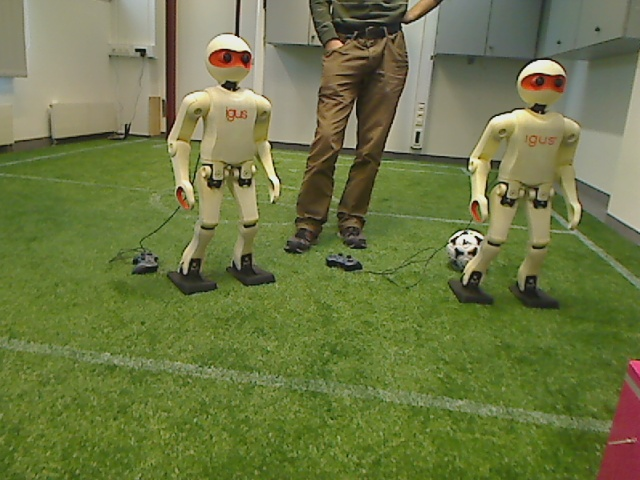ball: (444, 224, 490, 274)
robot: (459, 57, 584, 313), (166, 31, 286, 297)
